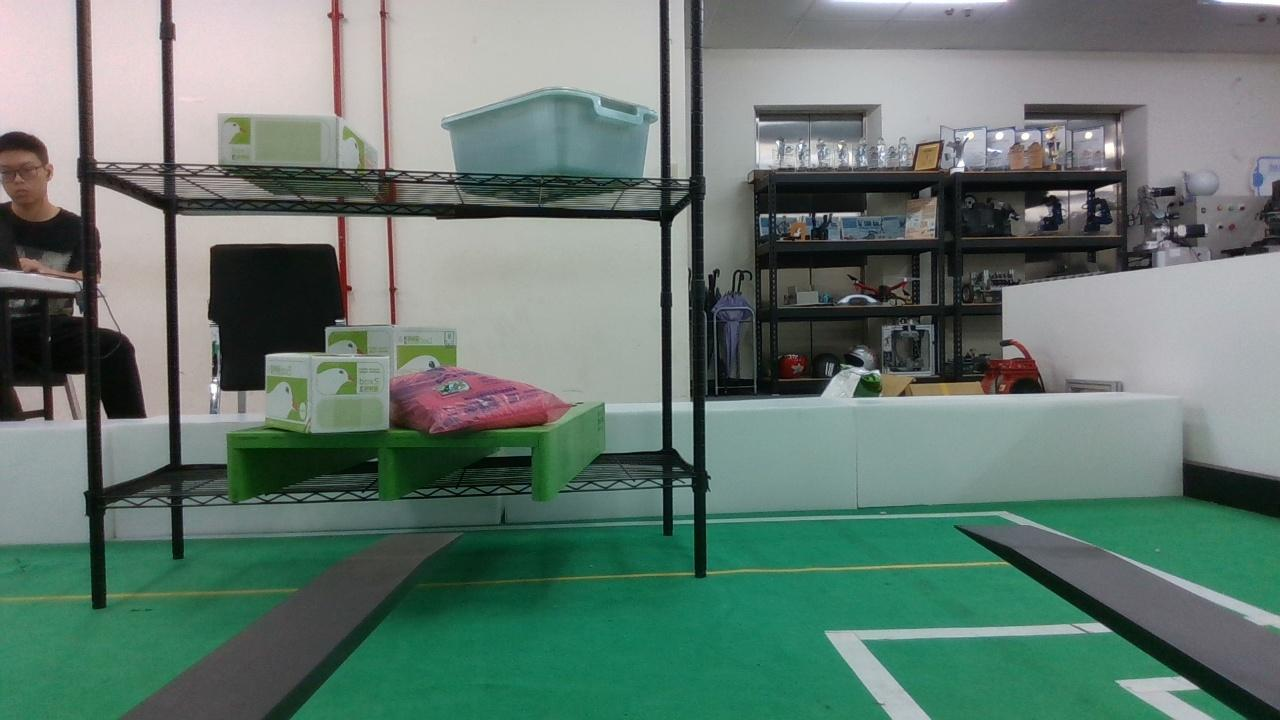Pallet: (227, 434, 554, 501)
